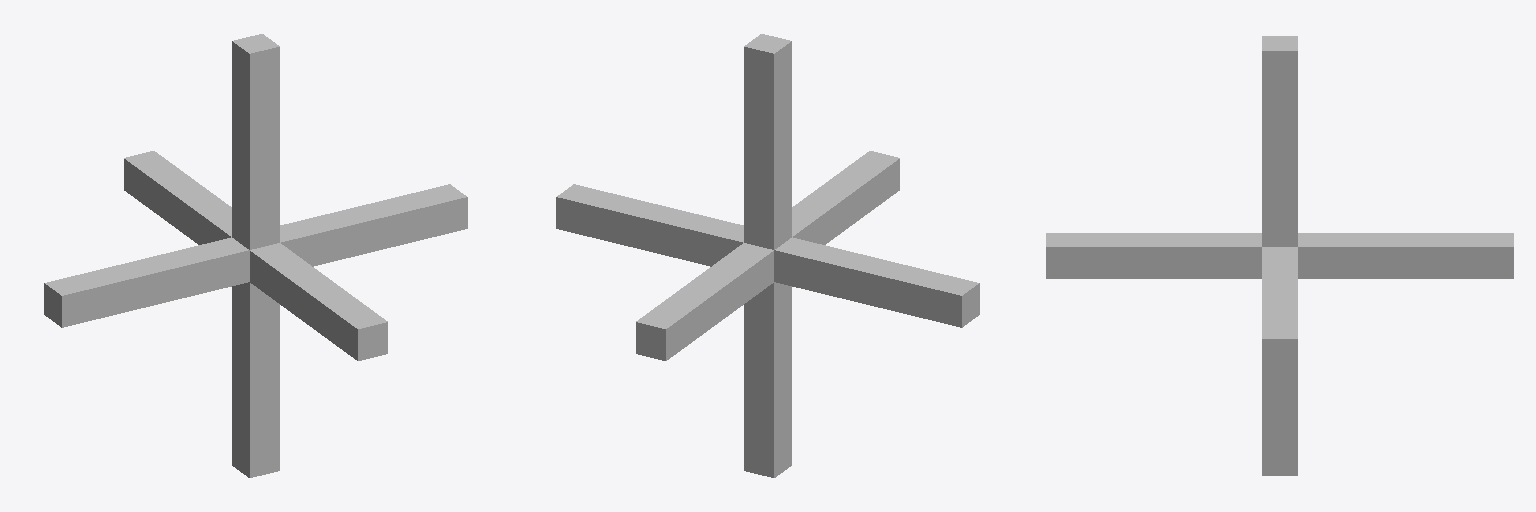
The model's file is repere.obj.
3 views of the same model, side by side, from view 1: azimuth 30°, elevation 25°; view 2: azimuth 150°, elevation 25°; view 3: azimuth 270°, elevation 25° (orthographic).
Visible parts, largest first — view 1: Cube; view 2: Cube; view 3: Cube.
Part boxes in pixels (bbox=[...]): Cube: bbox=[44, 34, 467, 477]; Cube: bbox=[556, 34, 979, 477]; Cube: bbox=[1046, 36, 1513, 475].
Bounding box in the file's own units: 2.16 × 2.16 × 2.16.